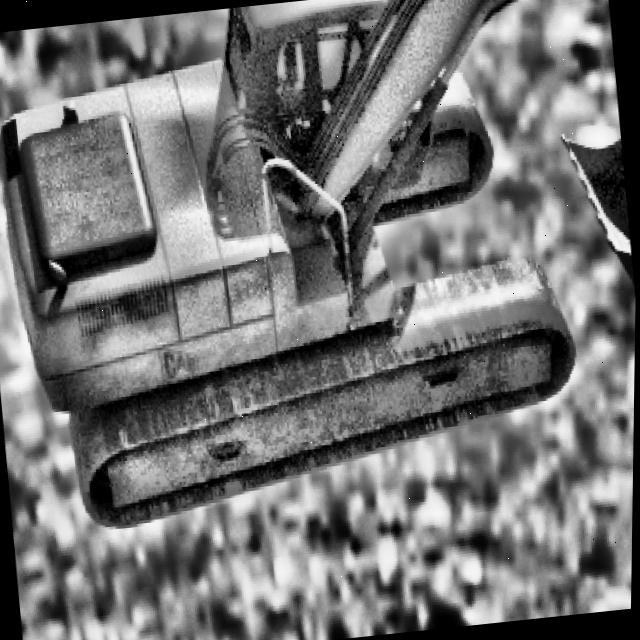excavator: (0, 0, 640, 534)
